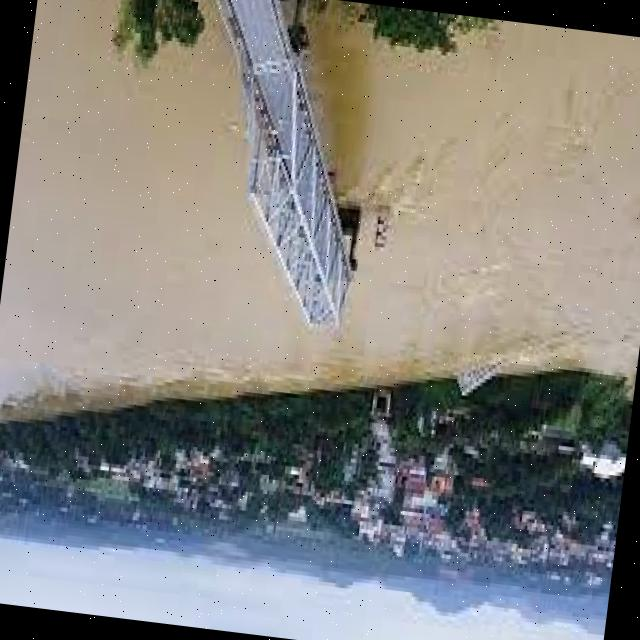bridge collapse: (202, 98, 522, 519)
